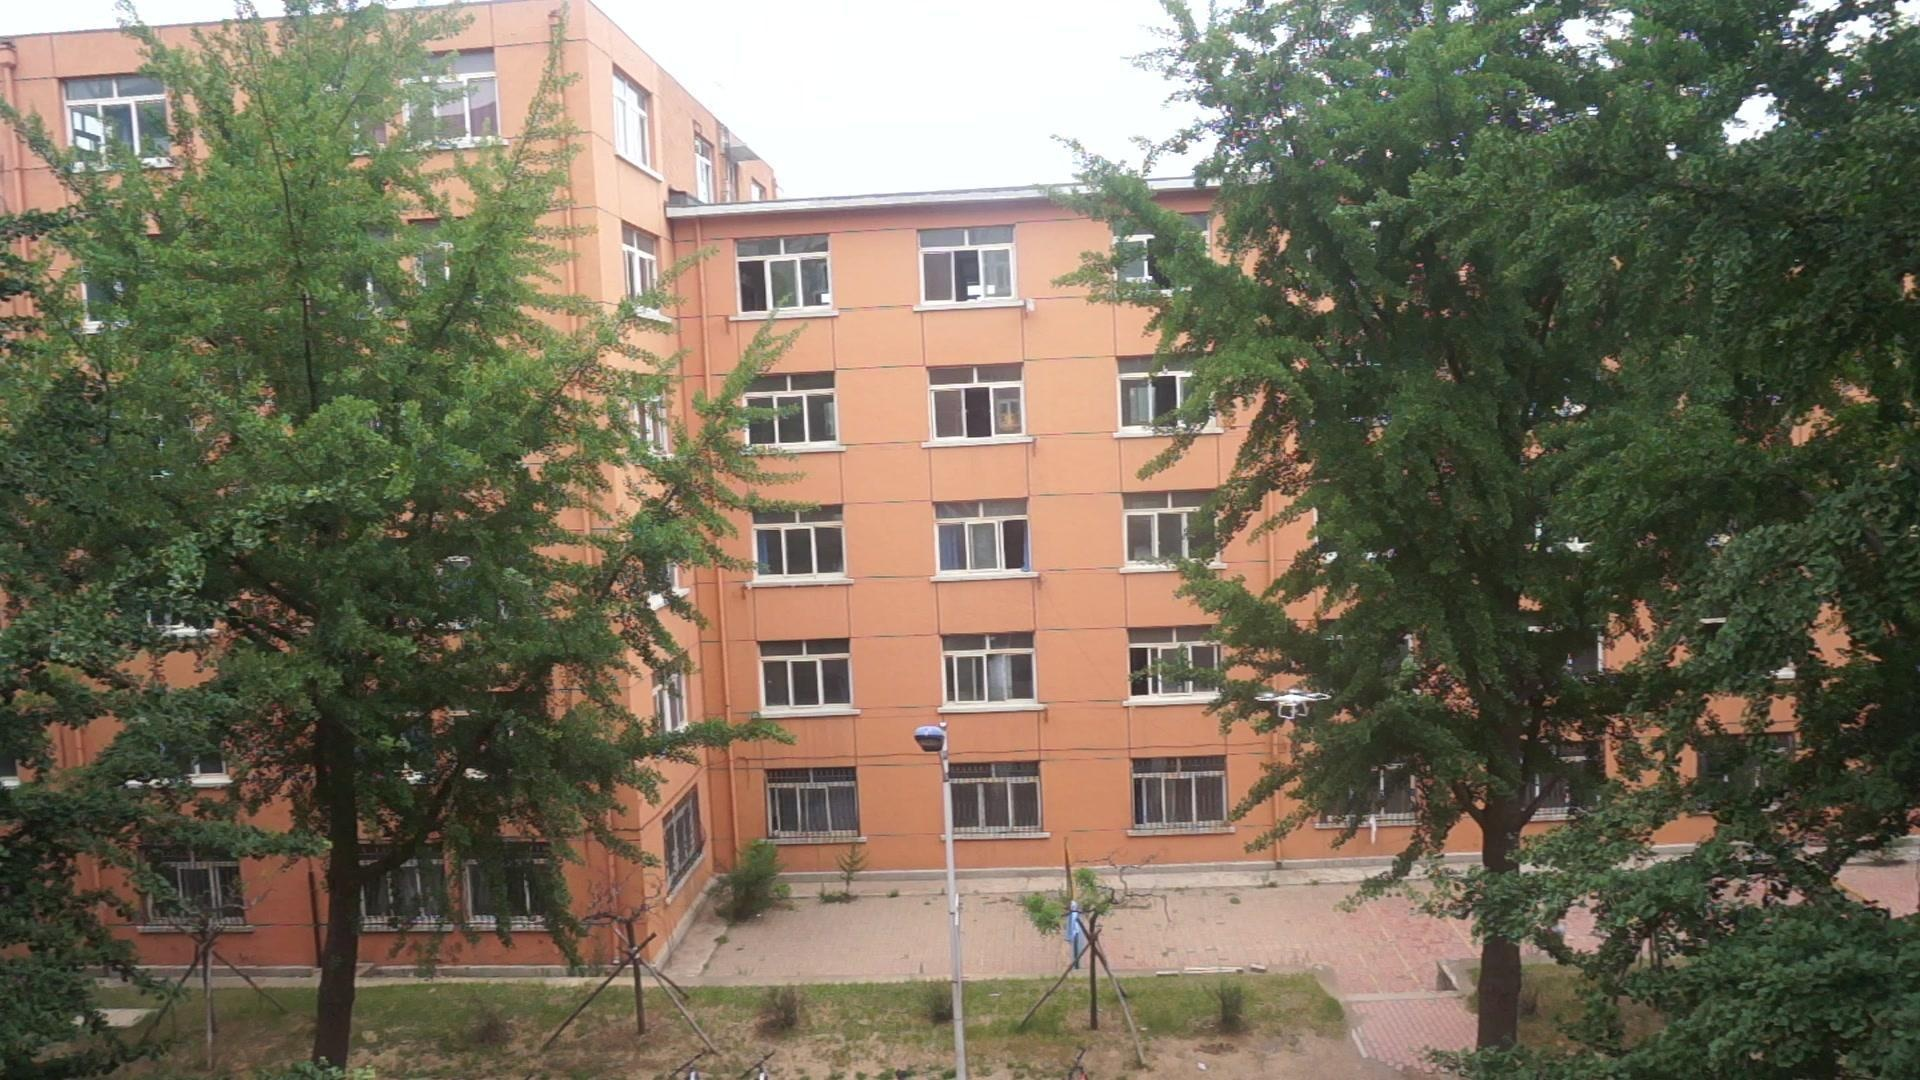UAV: (1255, 688, 1333, 721)
